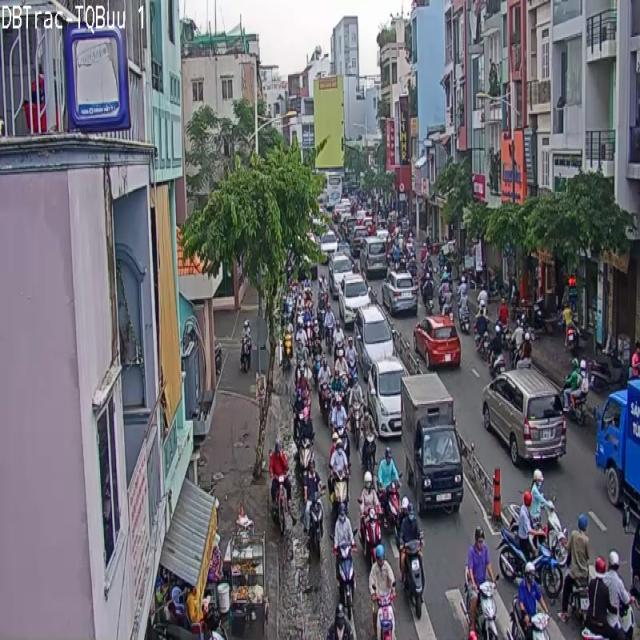car: (401, 498, 424, 617), (369, 545, 396, 639), (333, 503, 354, 613), (358, 471, 382, 562), (328, 432, 348, 501), (305, 492, 322, 558), (479, 580, 498, 639)
traffic-light: (482, 371, 566, 464), (368, 357, 406, 437), (414, 314, 460, 368), (356, 306, 394, 370)
truck: (414, 425, 463, 512), (402, 374, 454, 437)
